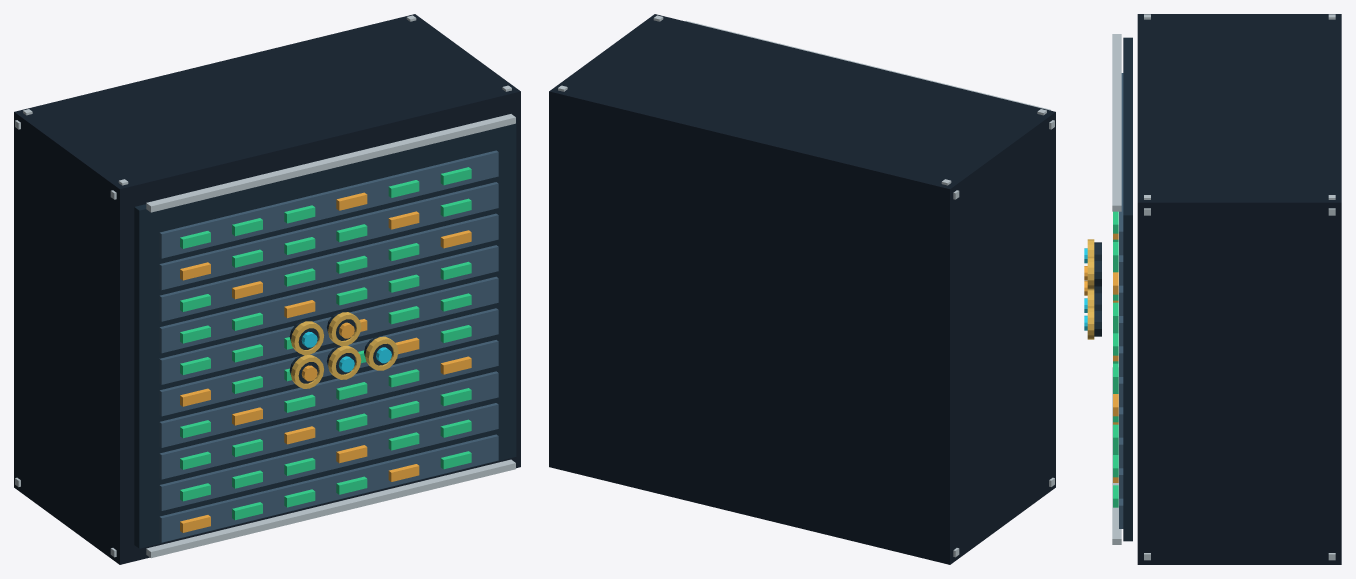
File: 55_L81_MissionSafetyPLCRack.fbx
3 renders of one model, left to right at view 1: azimuth 30°, elevation 25°; view 2: azimuth 150°, elevation 25°; view 3: azimuth 270°, elevation 25°, orthographic. The views are drawn at different scales.
Visible parts, largest first — view 1: MissionSafetyPLCRack; view 2: MissionSafetyPLCRack; view 3: MissionSafetyPLCRack.
Part boxes in pixels (bbox=[...]): MissionSafetyPLCRack: bbox=[14, 14, 520, 564]; MissionSafetyPLCRack: bbox=[549, 14, 1055, 564]; MissionSafetyPLCRack: bbox=[1084, 14, 1341, 564].
Size of the model in its own units: 164 by 147 by 93.45.
